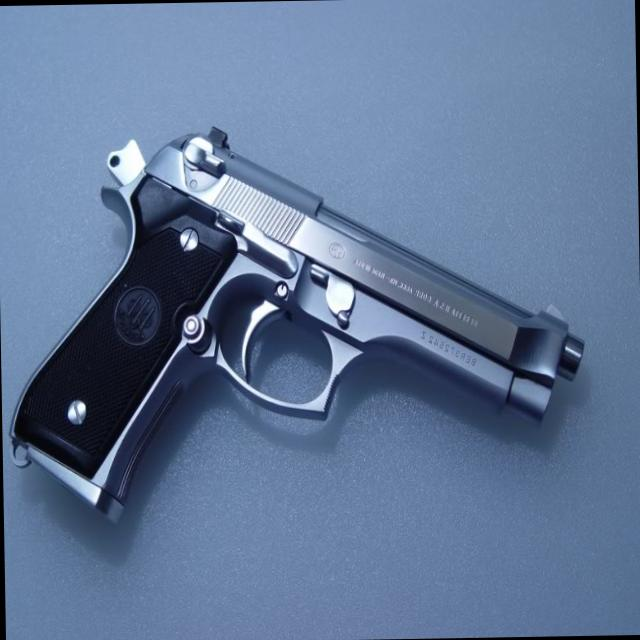Gun: (0, 104, 611, 568)
